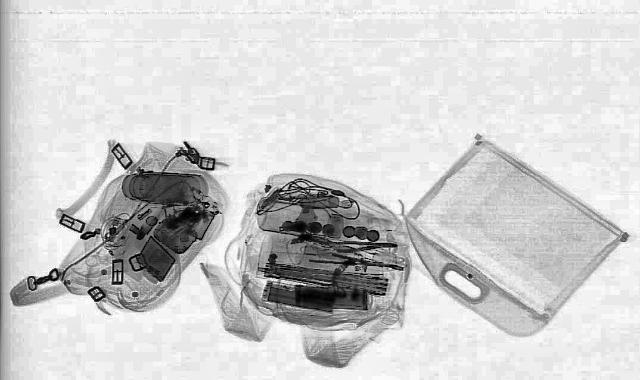Pliers: (334, 238, 396, 254)
